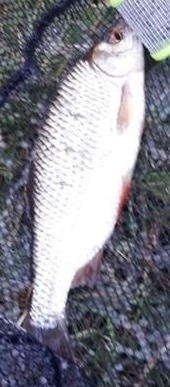Rutilus rutilus: (20, 20, 150, 367)
